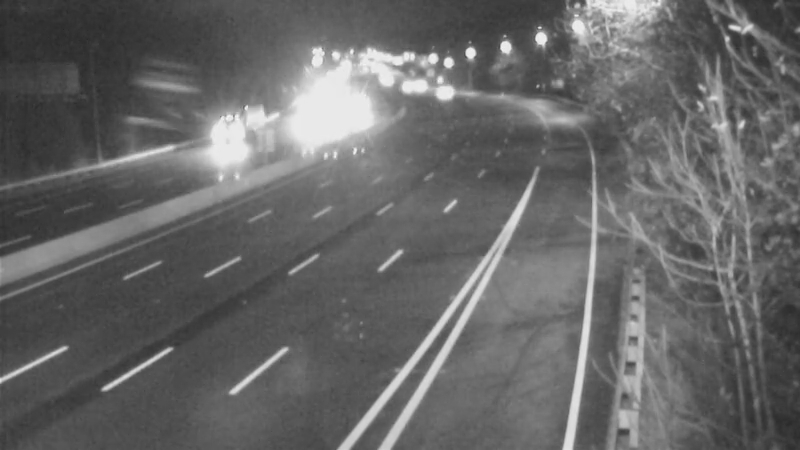vehicle: (416, 67, 466, 117), (196, 107, 246, 157)
